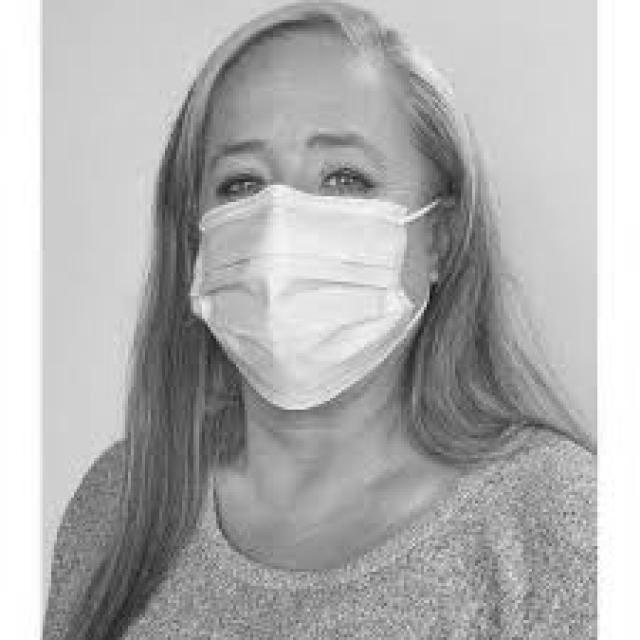fake: (193, 197, 414, 417)
real: (189, 44, 430, 415)
